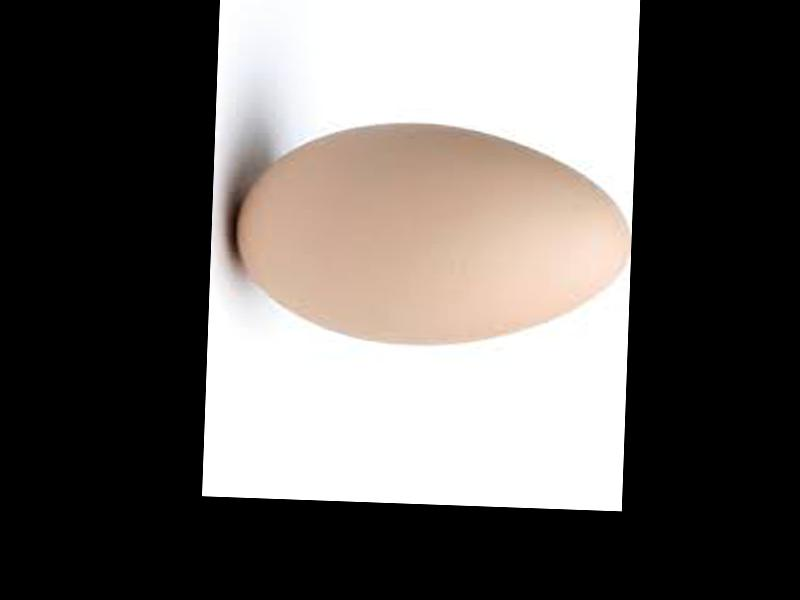Eggs: (229, 117, 632, 350)
